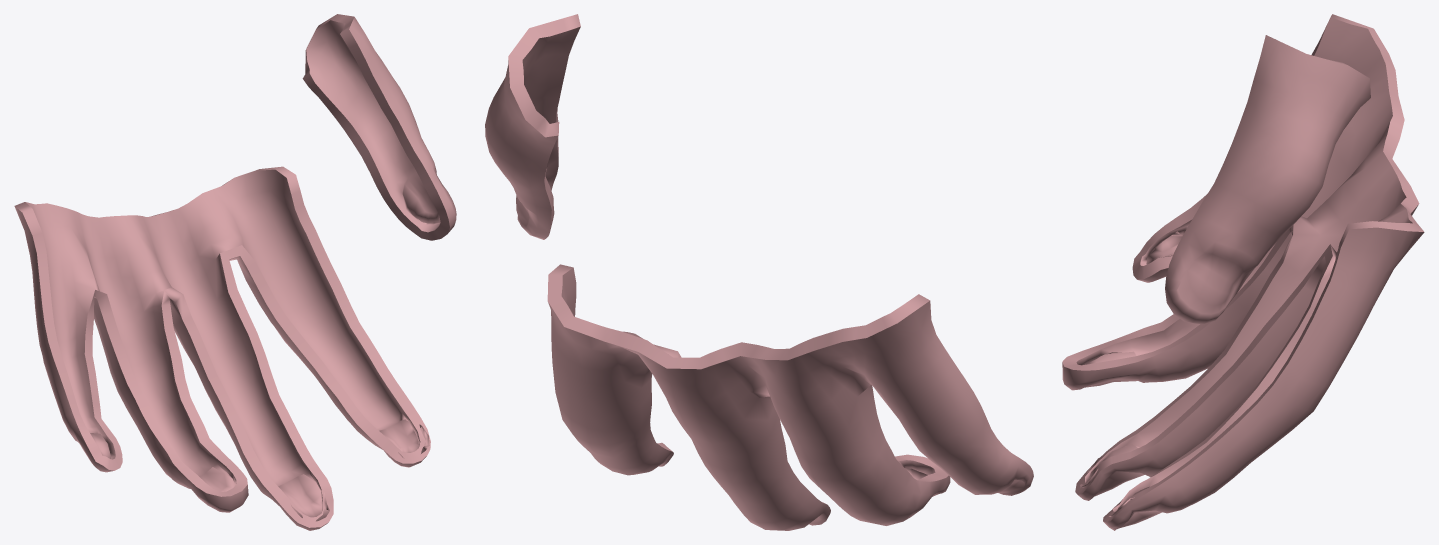
3 renders of one model, left to right at view 1: azimuth 30°, elevation 25°; view 2: azimuth 150°, elevation 25°; view 3: azimuth 270°, elevation 25°, orthographic. The views are drawn at different scales.
Visible parts, largest first — view 1: ZA_589e1851b3a5606e; view 2: ZA_589e1851b3a5606e; view 3: ZA_589e1851b3a5606e.
Boxes of the visible parts, box(x1,y1,x2,y2) form: ZA_589e1851b3a5606e: box(14, 14, 456, 530); ZA_589e1851b3a5606e: box(485, 14, 1033, 530); ZA_589e1851b3a5606e: box(1062, 14, 1424, 530).
Size of the model in its own units: 0.1164 by 0.122 by 0.076.
